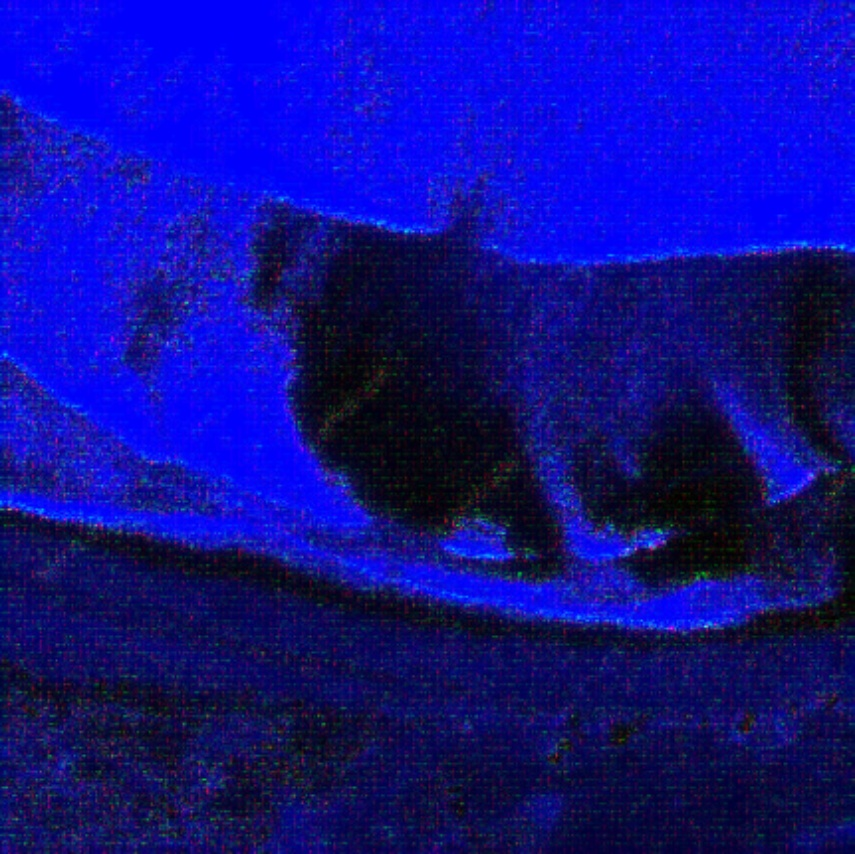rip_current: (238, 69, 608, 582)
